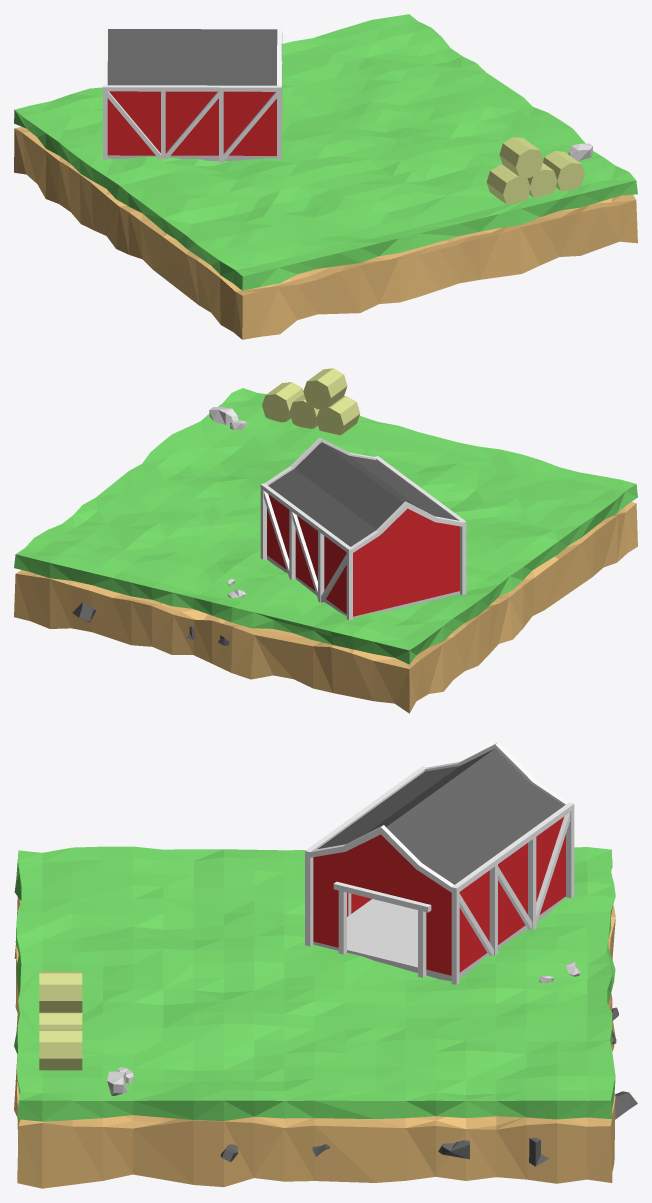
Rendered from uploads_files_923104_low+poly+farm.fbx.
The picture shows the model from 3 angles, top to bottom: view 1: azimuth 30°, elevation 25°; view 2: azimuth 150°, elevation 25°; view 3: azimuth 270°, elevation 25°; orthographic projection. The views are drawn at different scales.
Parts seen in each view (by area): view 1: Plane.002, Plane.003, Cube.336, Cube.001, Cube.000, Plane.001, Cube.003; view 2: Plane.002, Plane.003, Cube.001, Cube.336, Cube.000, Plane.001, Cube.003; view 3: Plane.002, Plane.003, Cube.336, Cube.001, Cube.000, Cube.003, Plane.001.
Boxes of the visible parts, x1,y1,x2,y2 form: Plane.002: [14, 14, 637, 290]; Plane.003: [14, 126, 637, 339]; Cube.336: [107, 29, 277, 85]; Cube.001: [107, 91, 276, 155]; Cube.000: [103, 26, 282, 162]; Plane.001: [486, 137, 584, 204]; Cube.003: [107, 155, 276, 160]; Plane.002: [14, 388, 637, 664]; Plane.003: [14, 502, 637, 713]; Cube.001: [267, 494, 459, 616]; Cube.336: [268, 442, 456, 546]; Cube.000: [260, 437, 466, 620]; Plane.001: [262, 368, 360, 435]; Cube.003: [267, 555, 459, 617]; Plane.002: [14, 846, 615, 1121]; Plane.003: [14, 874, 615, 1188]; Cube.336: [317, 748, 564, 884]; Cube.001: [313, 817, 565, 975]; Cube.000: [305, 742, 574, 984]; Cube.003: [313, 896, 565, 981]; Plane.001: [39, 971, 82, 1070].
Size of the model in its own units: 1640 by 661 by 1652.
